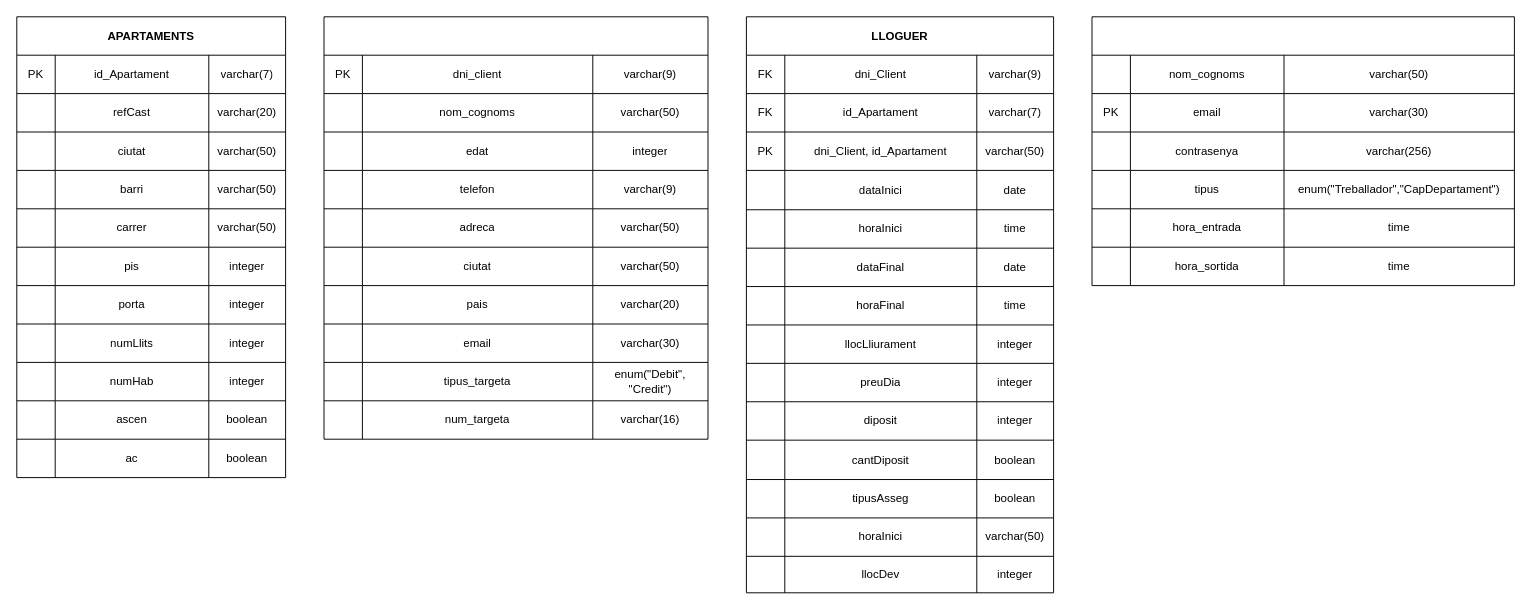
The diagram is 1531 pixels wide and 610 high, and some of its shapes have lost their labels. The box of each missing label's shape, as (x1, y1, x2, y2) in pixels:
CLIENTS: (323, 16, 708, 439)
TREBALLADORS: (1091, 16, 1514, 286)
